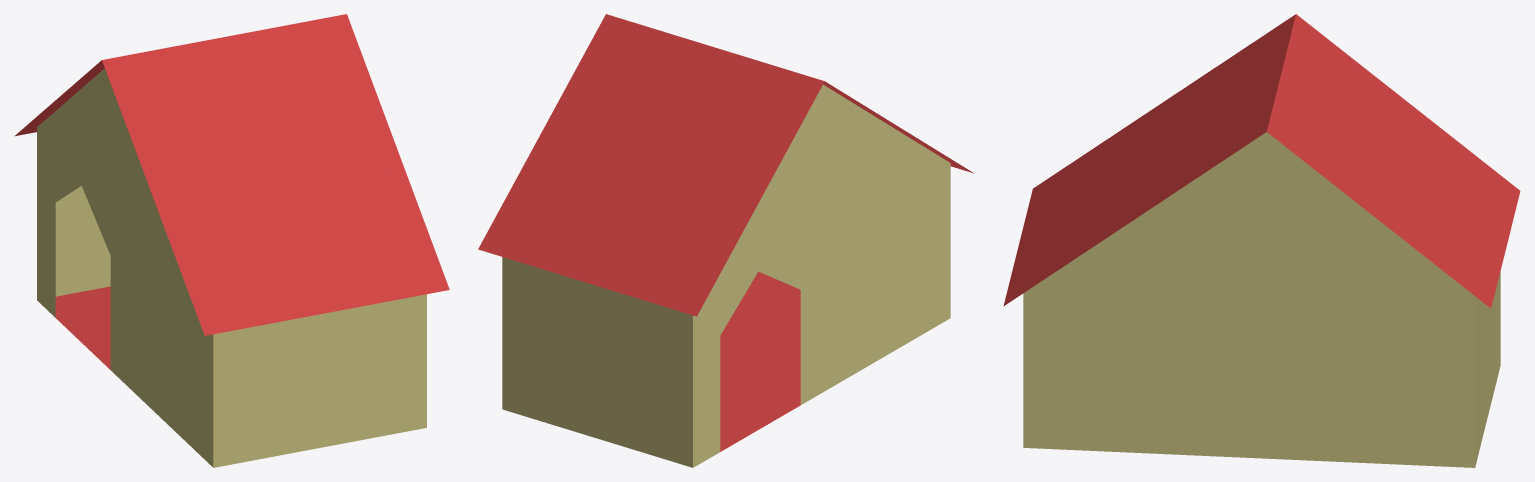
3 renders of one model, left to right at view 1: azimuth 30°, elevation 25°; view 2: azimuth 150°, elevation 25°; view 3: azimuth 270°, elevation 25°, orthographic. The views are drawn at different scales.
Bounding box in the file's own units: 13.76 × 21.53 × 15.37.
